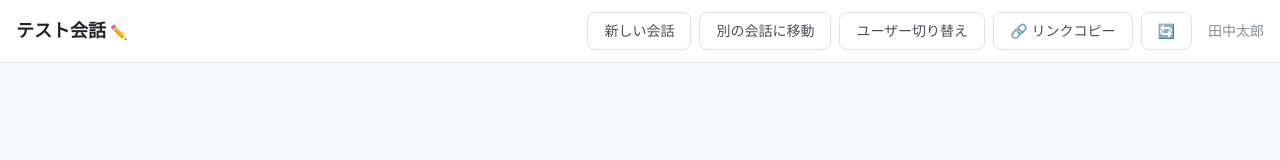
ChatHeader › タイトル編集でEscキー押下時にキャンセルされる
This screenshot has width=1280, height=160.
Click the button "テスト会話✏️" at x=72, y=31, box [16,17,128,45]
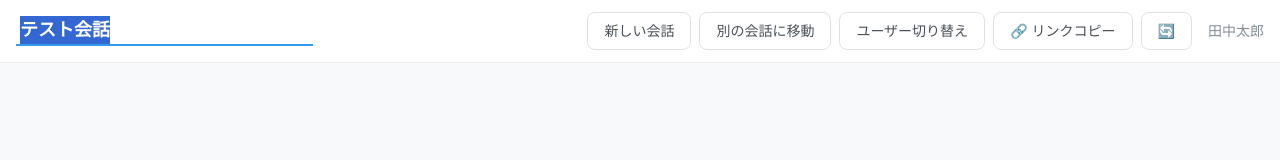
Replace the text in the field named "会話タイトルを編集" with "破棄するタイトル" at x=164, y=31, box [16,16,313,46]
Then press Escape
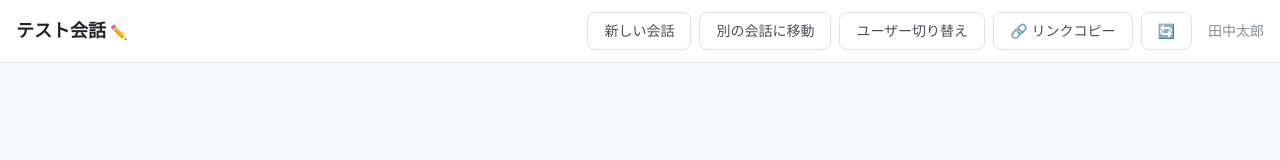
Check: the button "テスト会話✏️" is shown, box [16,17,128,45]
